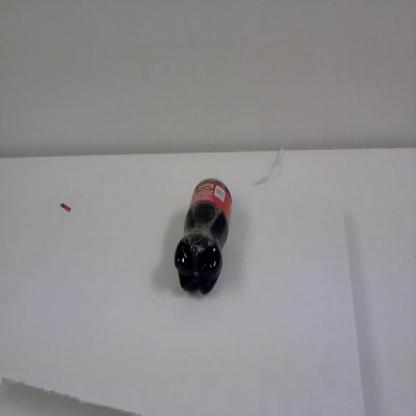bottle: (172, 174, 233, 298)
